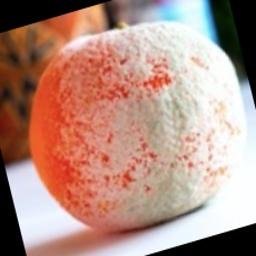Orange Rotten: (0, 1, 248, 256)
